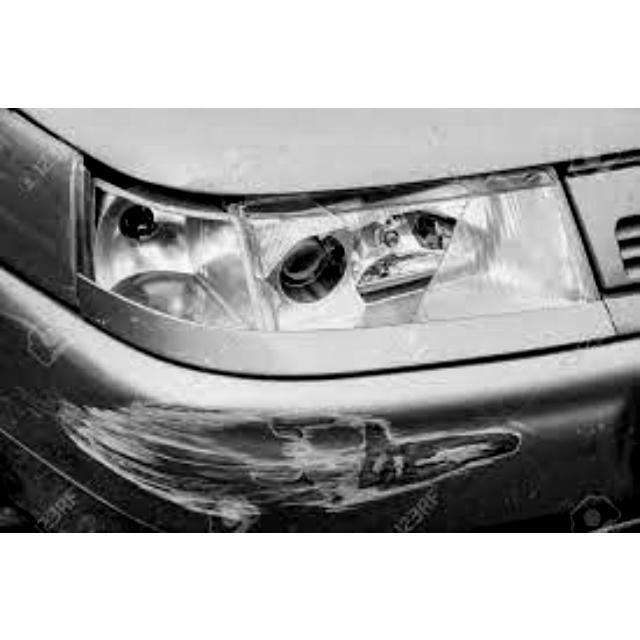Headlight-damage: (59, 168, 584, 337)
front-bumper-dent: (14, 352, 598, 531)
